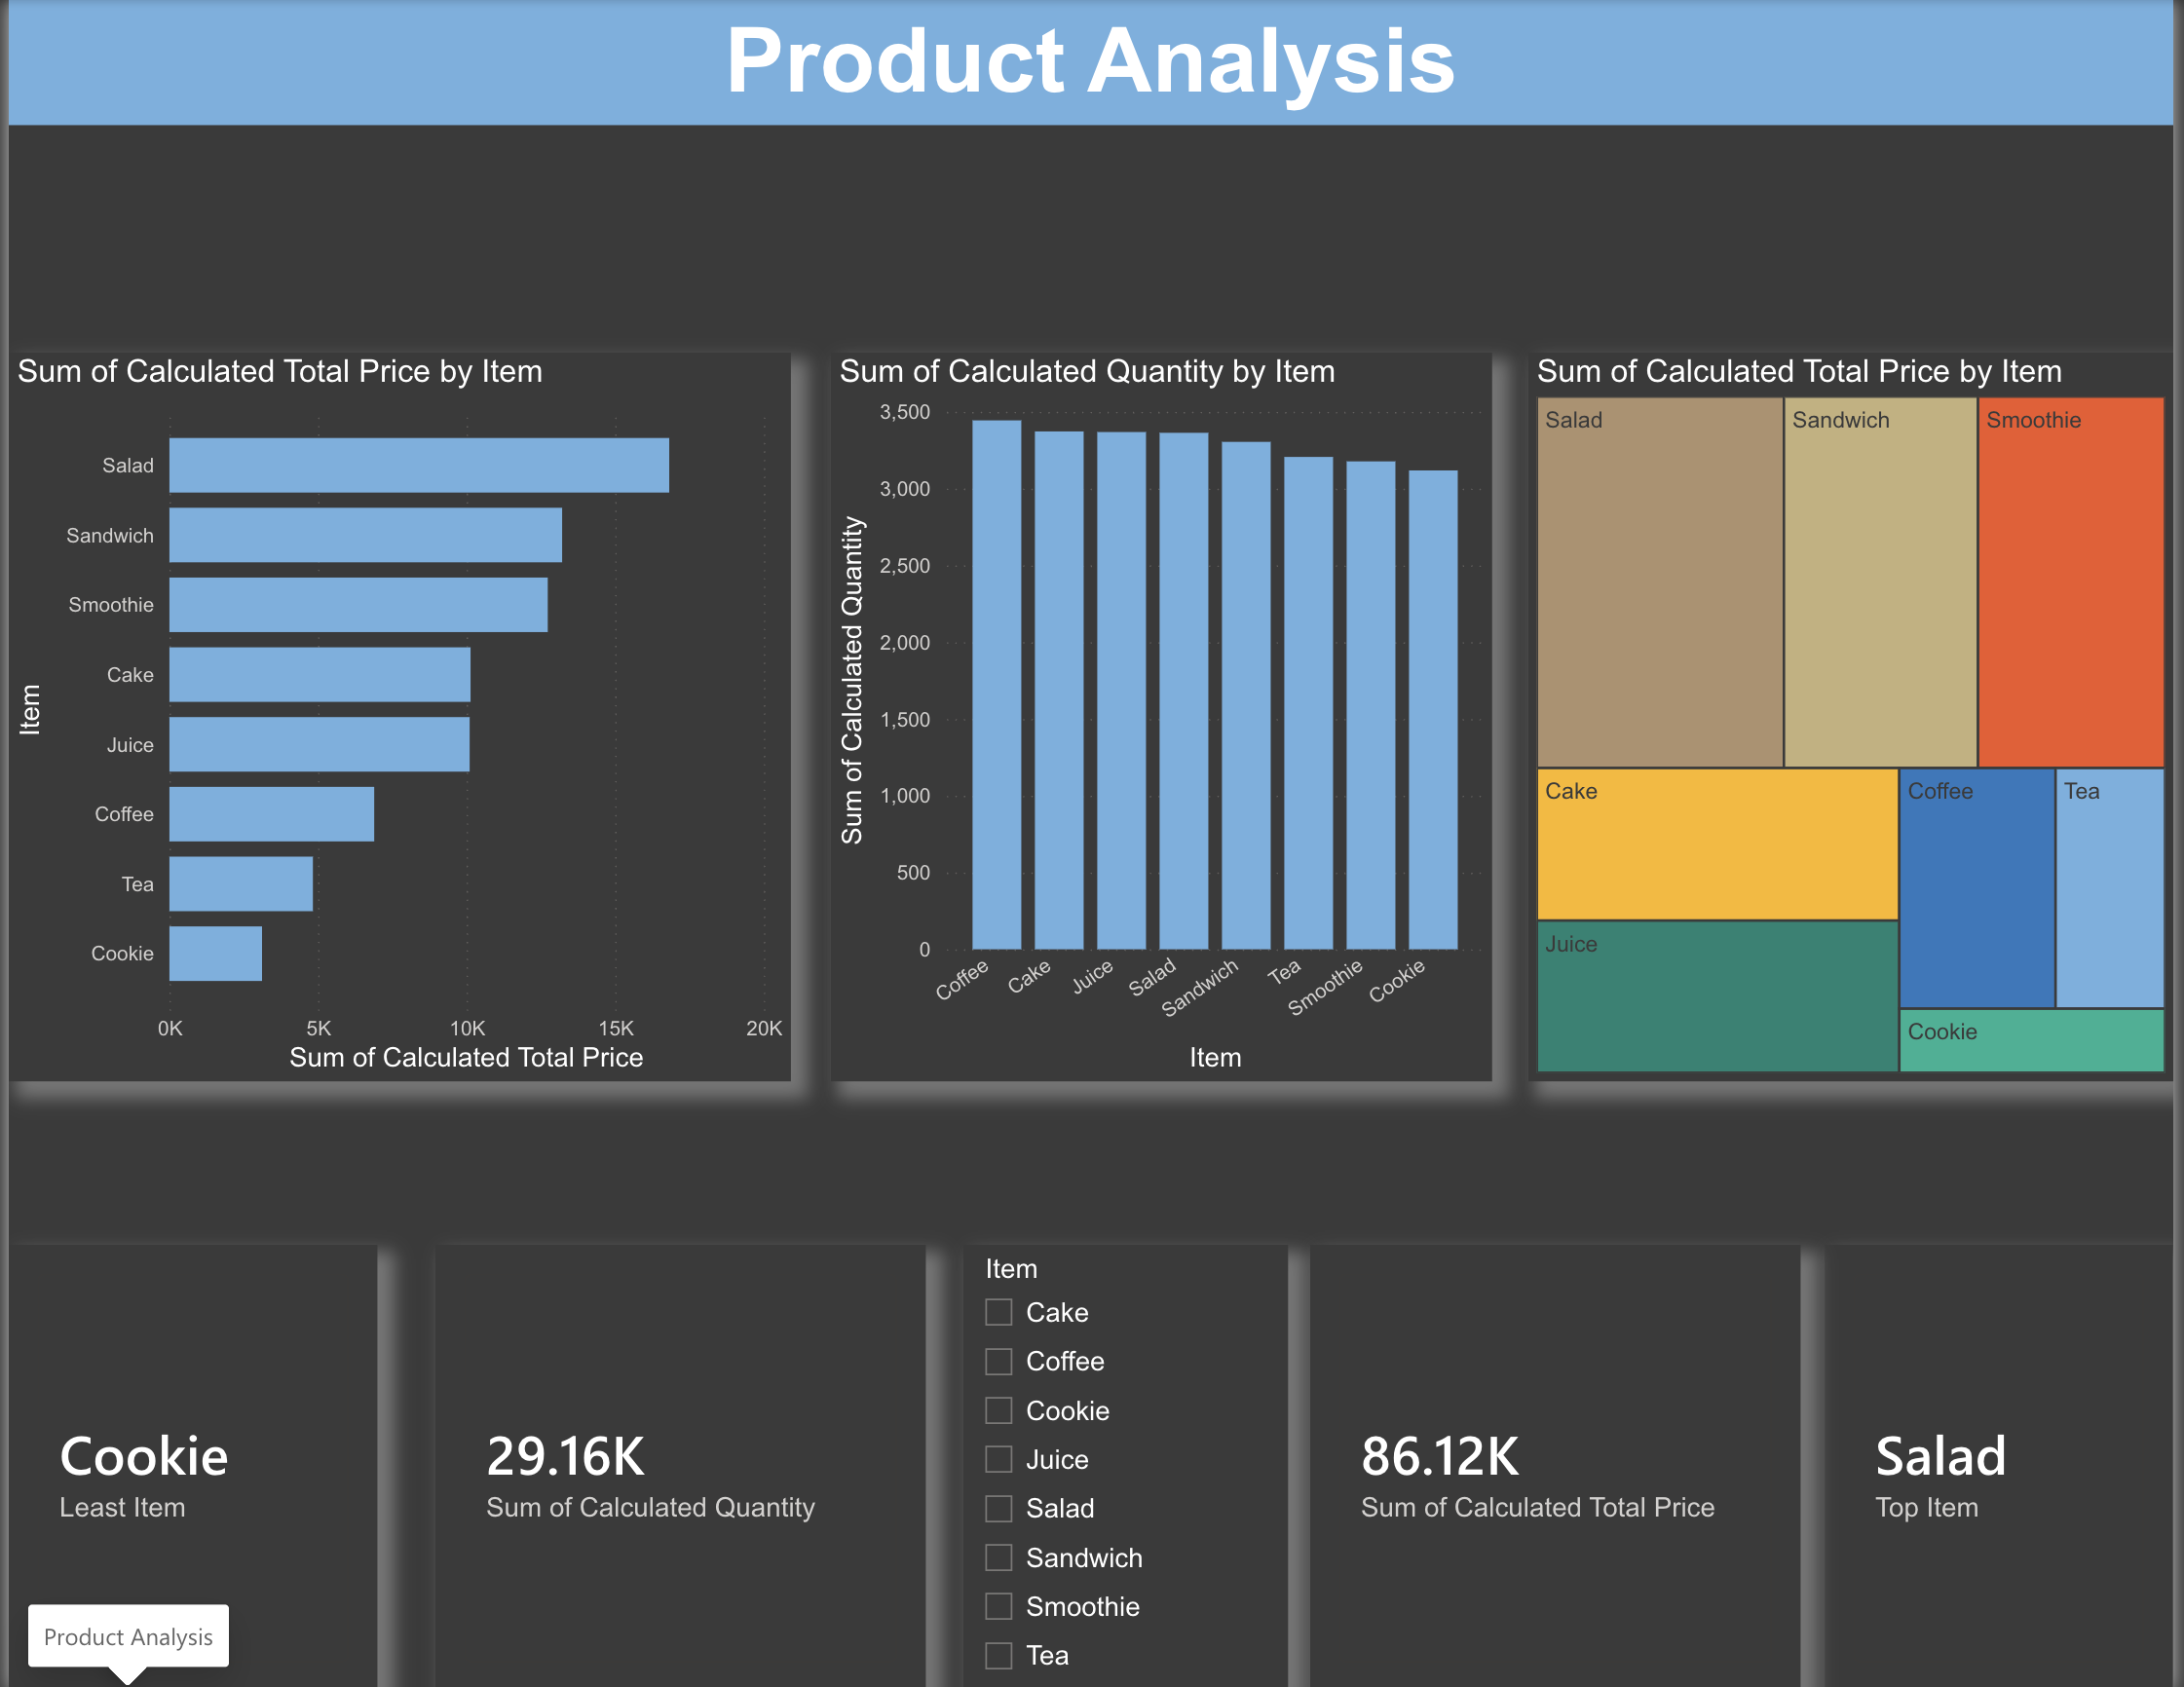

Layout of this report page (visuals, bound fields, positions):
{"tool":"powerbi","page":{"name":"Product Analysis","canvas":[1280,1000],"ordinal":1},"visuals":[{"type":"barChart","fields":{"Category":["dirty_cafe_sales.Item"],"Y":["Sum(dirty_cafe_sales.Calculated Total Price)"]},"box":[0,208.6,462.4,430.9],"z":0},{"type":"columnChart","fields":{"Category":["dirty_cafe_sales.Item"],"Y":["Sum(dirty_cafe_sales.Calculated Quantity)"]},"box":[485.8,208.6,391.1,430.9],"z":1000},{"type":"treemap","fields":{"Group":["dirty_cafe_sales.Item"],"Values":["Sum(dirty_cafe_sales.Calculated Total Price)"]},"box":[898.8,208.6,381.5,430.9],"z":2000},{"type":"textbox","box":[0,0,1280.3,74.1],"z":3000},{"type":"cardVisual","fields":{"Data":["Min(dirty_cafe_sales.Item)"]},"box":[0,736,218,264],"z":4000},{"type":"cardVisual","fields":{"Data":["Sum(dirty_cafe_sales.Calculated Quantity)"]},"box":[252,736,290,264],"z":5000},{"type":"slicer","fields":{"Values":["dirty_cafe_sales.Item"]},"box":[564,736,192,264],"z":6000},{"type":"cardVisual","fields":{"Data":["dirty_cafe_sales.Count of Payment Method for Unknown 4"]},"box":[1074,736,206,264],"z":7000},{"type":"cardVisual","fields":{"Data":["Sum(dirty_cafe_sales.Calculated Total Price)"]},"box":[770,736,290,264],"z":8000}]}

Visuals, with their boxes in screenshot pixels (x1, y1, x2, y2), scaled from the page's 1280x1000 canvas onto the 2184x1687 screenshot:
barChart - dirty_cafe_sales.Item x Sum(dirty_cafe_sales.Calculated Total Price): <box>0,352,789,1079</box>
columnChart - dirty_cafe_sales.Item x Sum(dirty_cafe_sales.Calculated Quantity): <box>829,352,1496,1079</box>
treemap - dirty_cafe_sales.Item x Sum(dirty_cafe_sales.Calculated Total Price): <box>1533,352,2183,1079</box>
textbox: <box>0,0,2183,125</box>
cardVisual - Min(dirty_cafe_sales.Item): <box>0,1242,372,1686</box>
cardVisual - Sum(dirty_cafe_sales.Calculated Quantity): <box>430,1242,924,1686</box>
slicer - dirty_cafe_sales.Item: <box>962,1242,1290,1686</box>
cardVisual - dirty_cafe_sales.Count of Payment Method for Unknown 4: <box>1832,1242,2183,1686</box>
cardVisual - Sum(dirty_cafe_sales.Calculated Total Price): <box>1314,1242,1809,1686</box>
